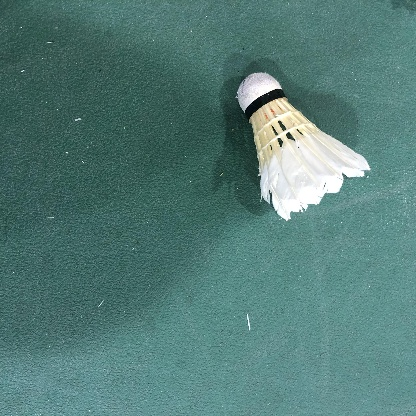ball_single: (237, 73, 370, 221)
